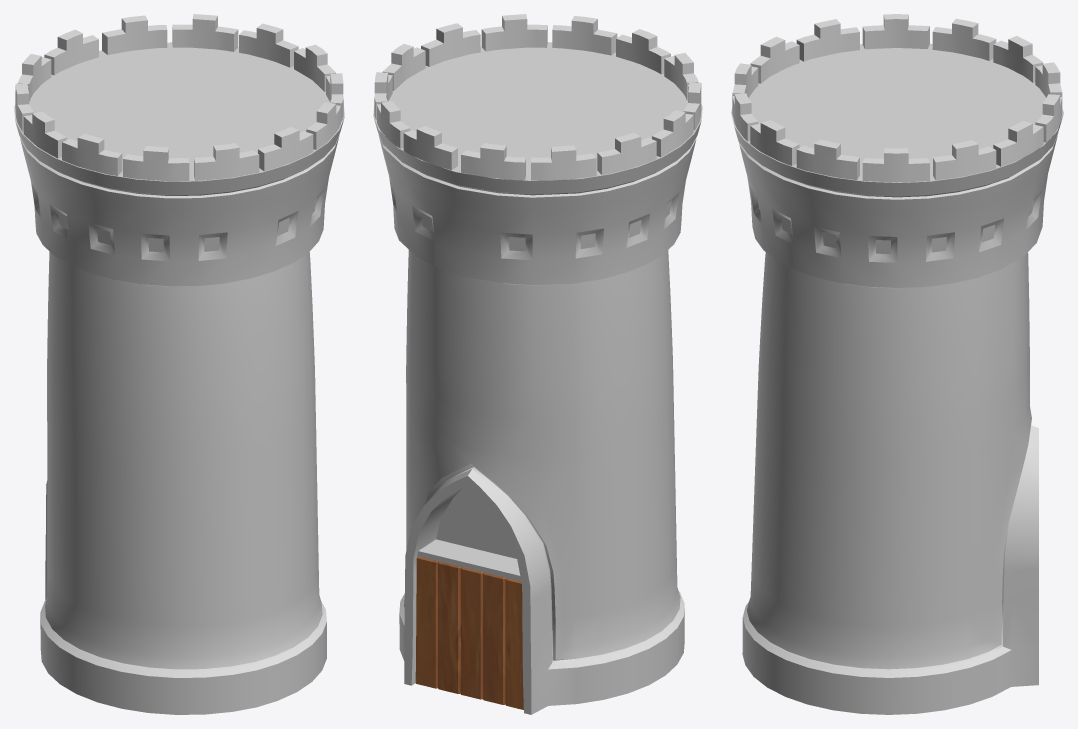
The model's file is Najdi_Tower_A01.fbx.
The picture shows the model from 3 angles, left to right: view 1: azimuth 30°, elevation 25°; view 2: azimuth 150°, elevation 25°; view 3: azimuth 270°, elevation 25°; orthographic projection.
Visible parts, largest first — view 1: Najdi_Tower_A01; view 2: Najdi_Tower_A01; view 3: Najdi_Tower_A01.
Part boxes in pixels (x1=…): Najdi_Tower_A01: x1=14, y1=14, x2=344, y2=714; Najdi_Tower_A01: x1=373, y1=14, x2=702, y2=714; Najdi_Tower_A01: x1=731, y1=14, x2=1063, y2=714.
Size of the model in its own units: 1381 by 1381 by 2610.
